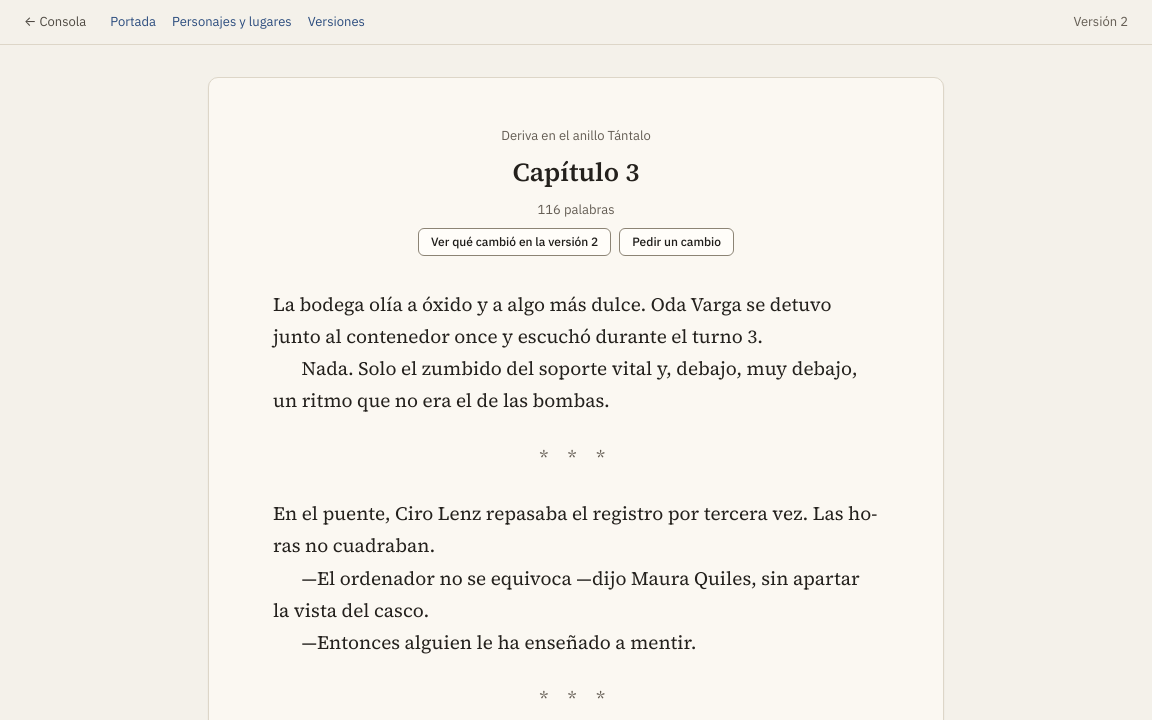
it: pedir un cambio desde el texto (RF-FE-CAM-01 a RF-FE-CAM-03) › un 422 cambio_invalido se enseña en el panel y no se pierde lo escrito
Click the button "Pedir un cambio" at (677, 242), box [619,228,734,256]
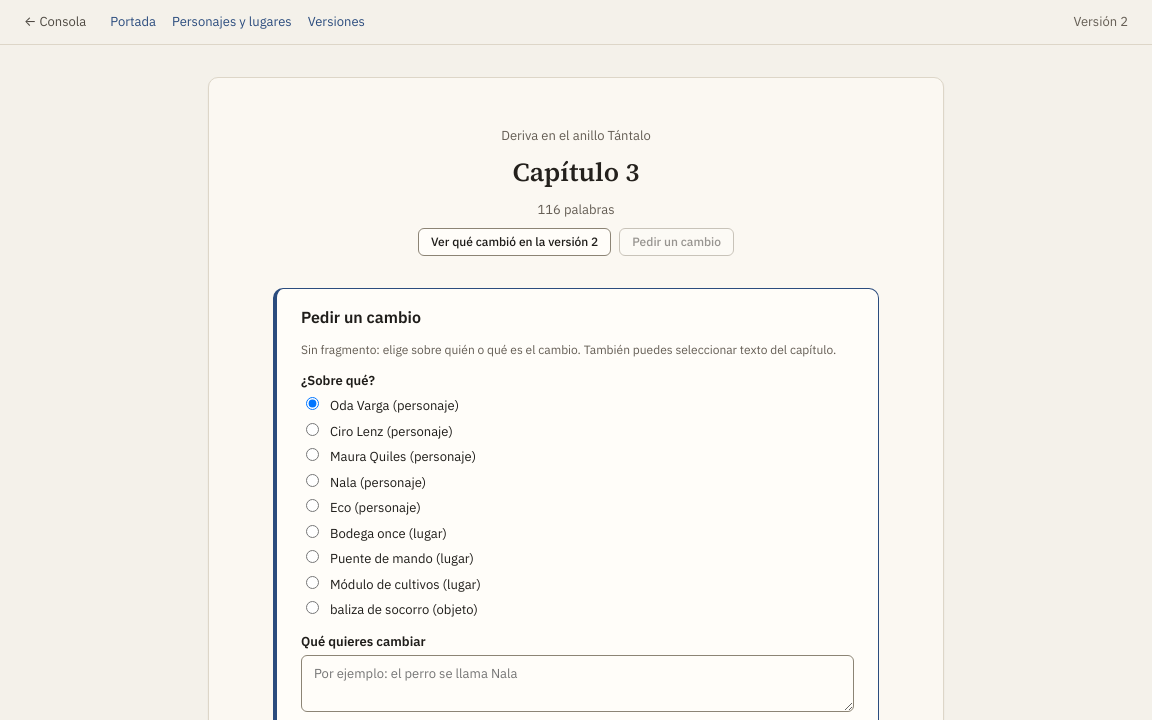
Click the radio button labelled "Nala (personaje)" at (312, 480), box [306,474,319,486]
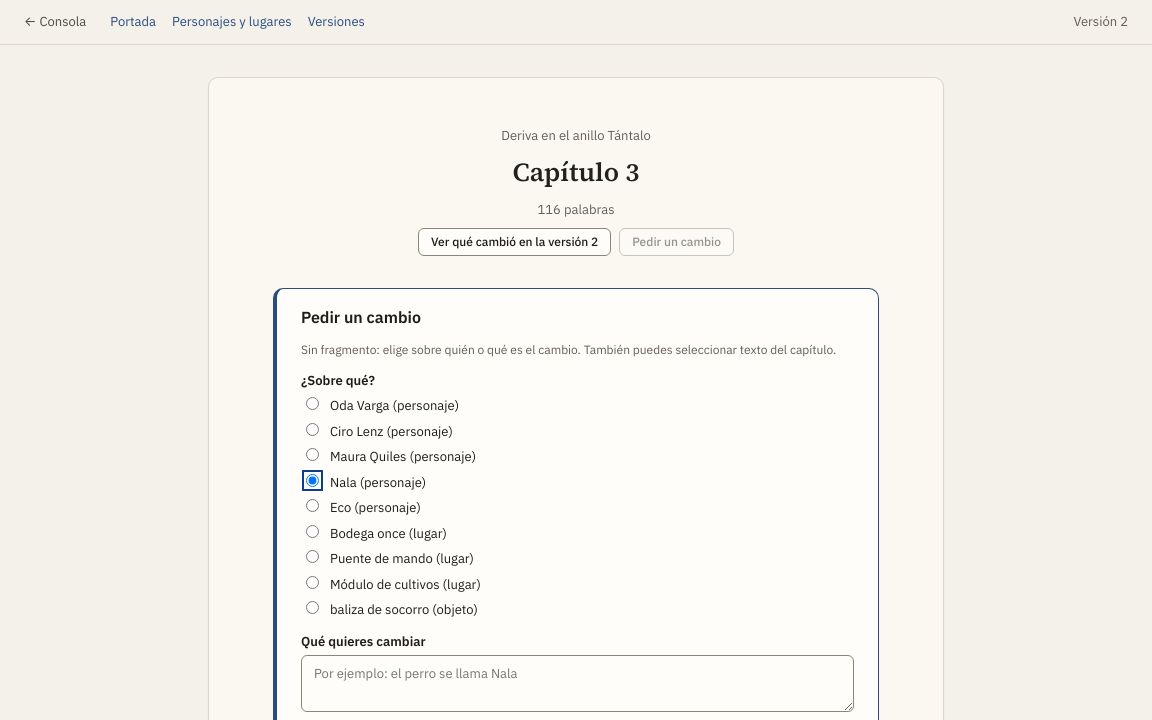
Type "El perro se llama Luna" into the text box labelled "Qué quieres cambiar 0 de 300 caracteres" at (578, 684), box [301,655,854,712]
(page scrolled)
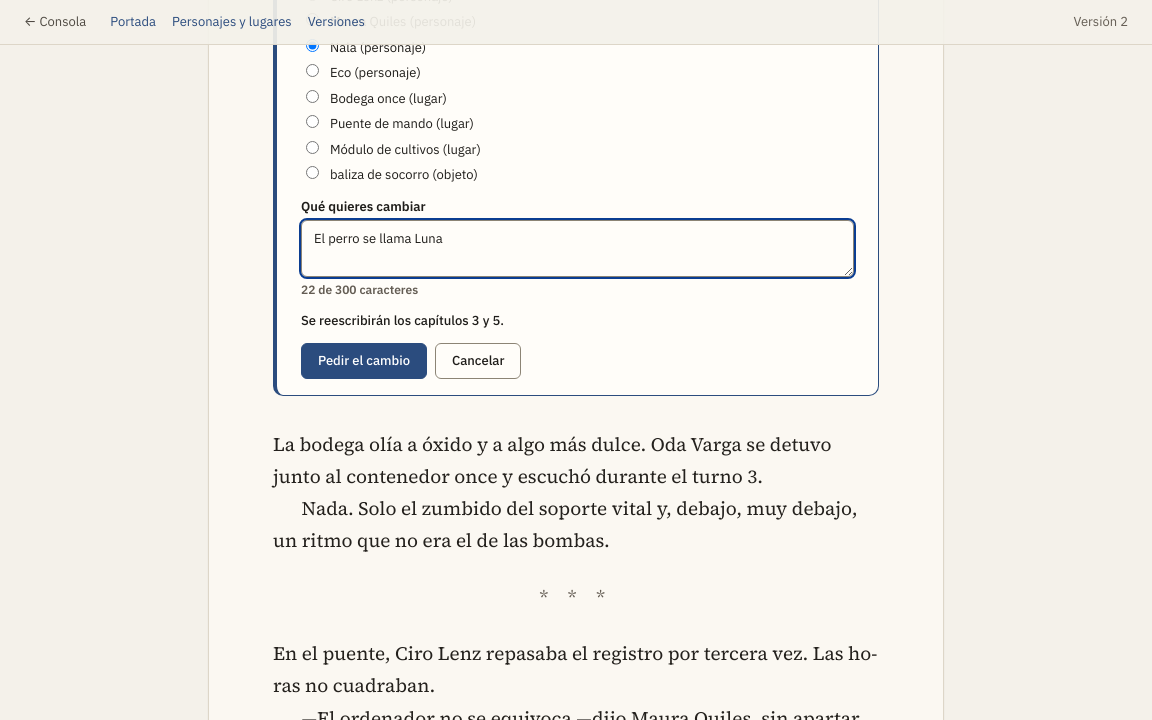
Click the button "Pedir el cambio" at (364, 360), box [301,342,427,378]
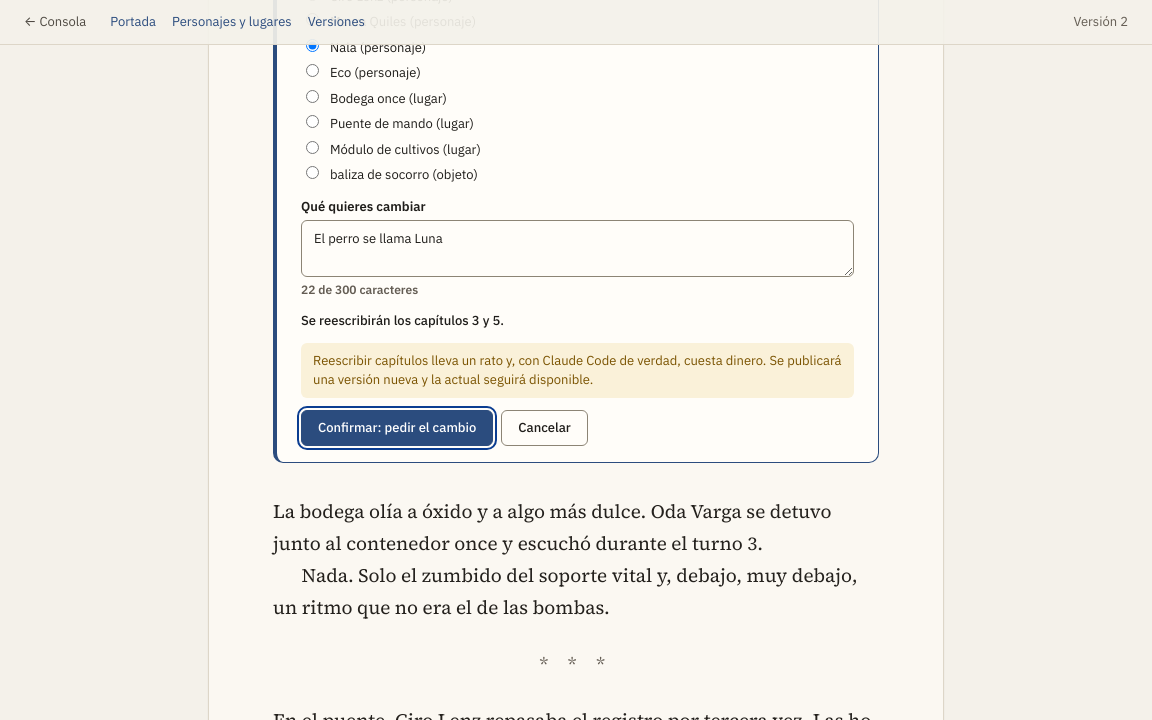
Click the button "Confirmar: pedir el cambio" at (397, 428), box [301,410,493,446]
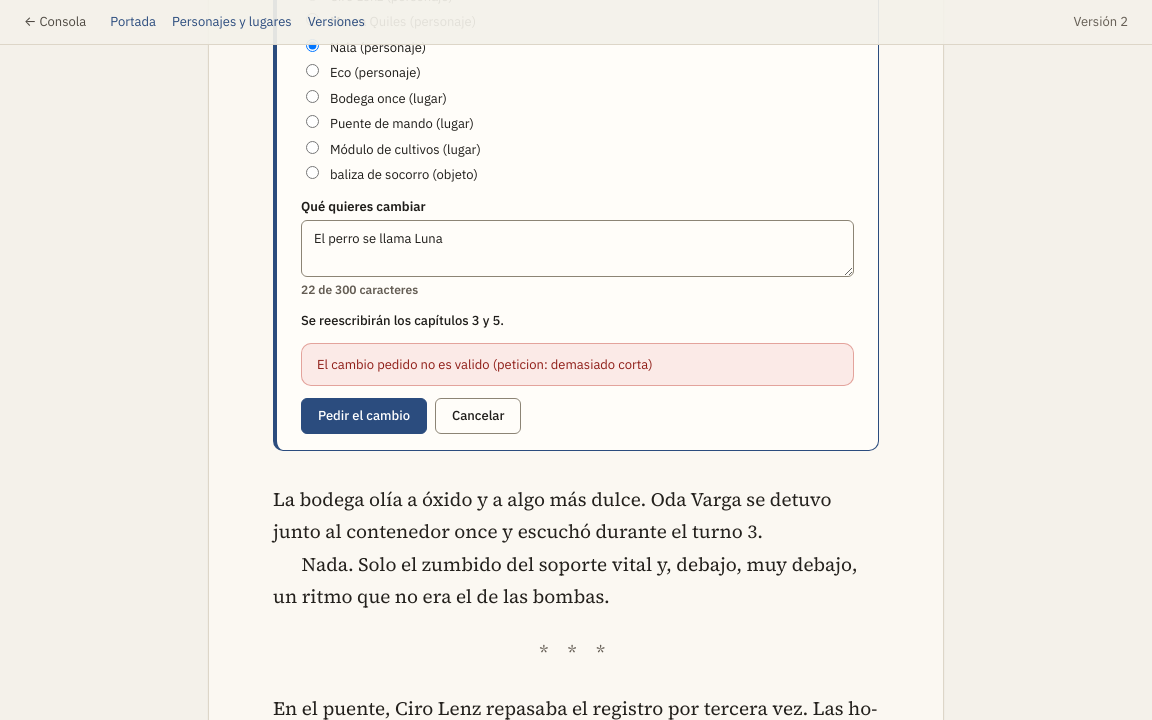
Now the message "El cambio pedido no es valido (peticion: demasiado corta)" is shown, box [301,342,854,386]
